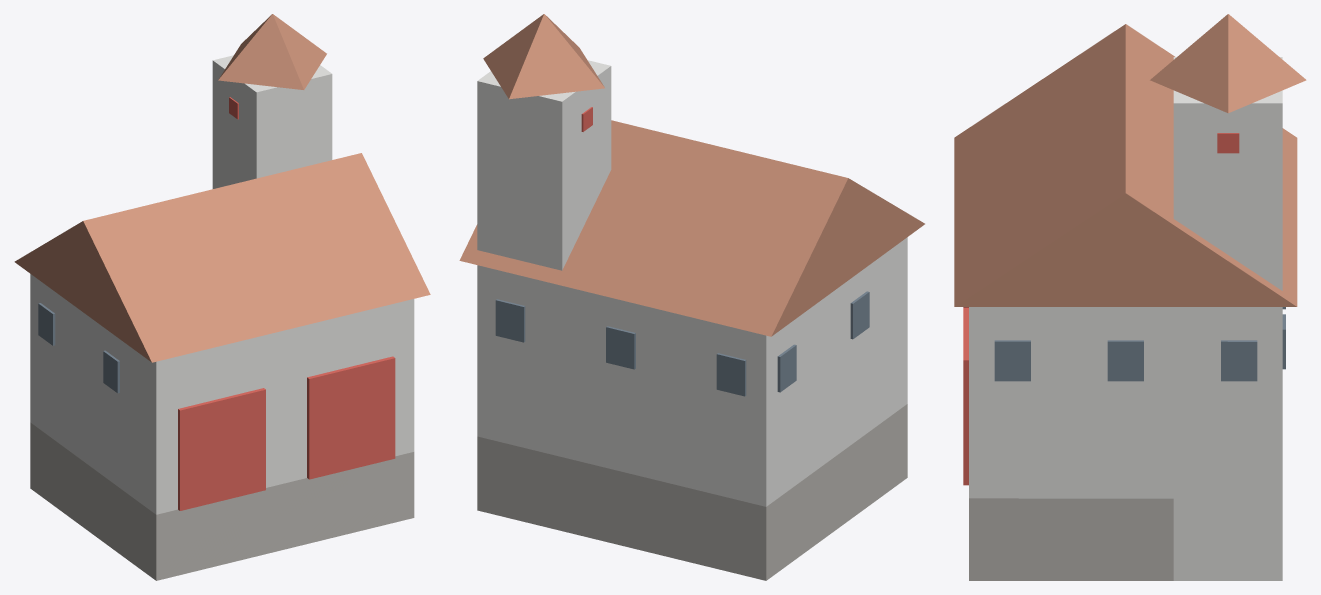
File: fire_station-30483984.glb
The picture shows the model from 3 angles, left to right: view 1: azimuth 30°, elevation 25°; view 2: azimuth 150°, elevation 25°; view 3: azimuth 270°, elevation 25°; orthographic projection. The views are drawn at different scales.
Parts seen in each view (by area): view 1: building; view 2: building; view 3: building.
Boxes of the visible parts, x1=… form: building: x1=14, y1=14, x2=430, y2=580; building: x1=459, y1=14, x2=924, y2=580; building: x1=954, y1=14, x2=1306, y2=580.
Bounding box in the file's own units: 11.28 × 16.5 × 9.7.
